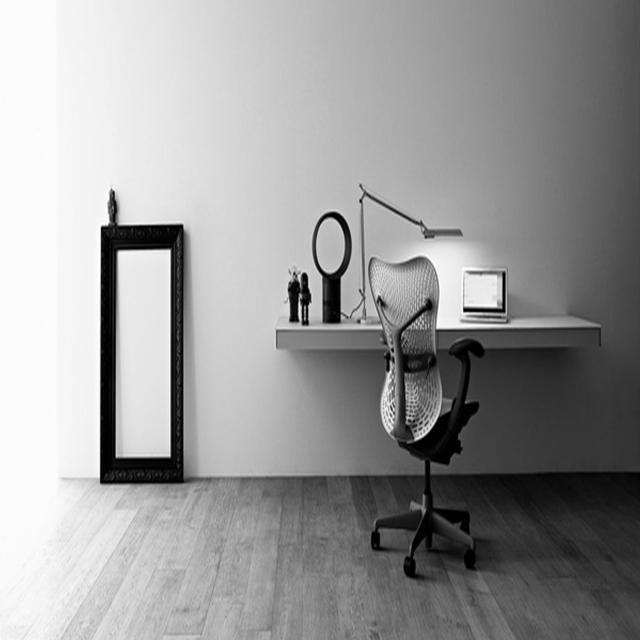chair: (367, 254, 485, 577)
